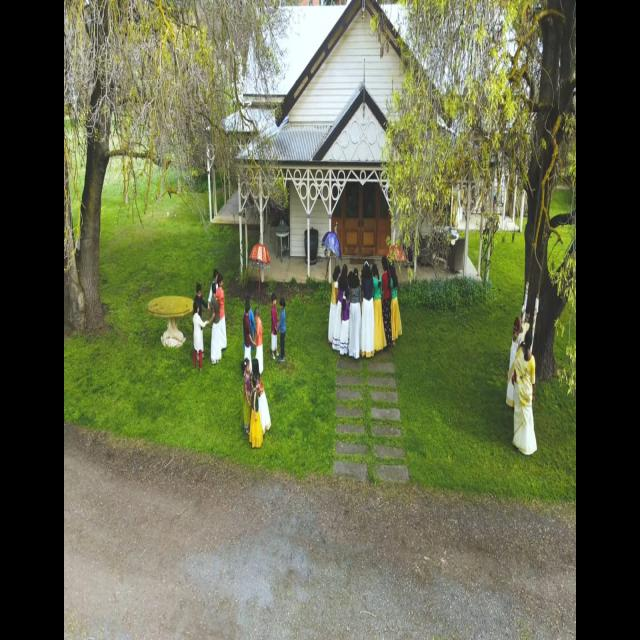humans: (506, 329, 542, 461), (206, 277, 222, 377), (360, 254, 373, 365), (389, 260, 405, 350), (191, 295, 209, 371), (372, 261, 385, 355), (249, 372, 265, 447), (328, 256, 341, 344), (351, 261, 362, 363), (381, 254, 393, 342), (238, 353, 252, 423), (252, 304, 268, 360), (341, 283, 351, 356), (513, 300, 536, 327), (242, 298, 254, 349), (193, 274, 204, 302), (339, 255, 348, 289), (217, 271, 226, 299), (253, 357, 262, 377), (211, 264, 219, 286)
